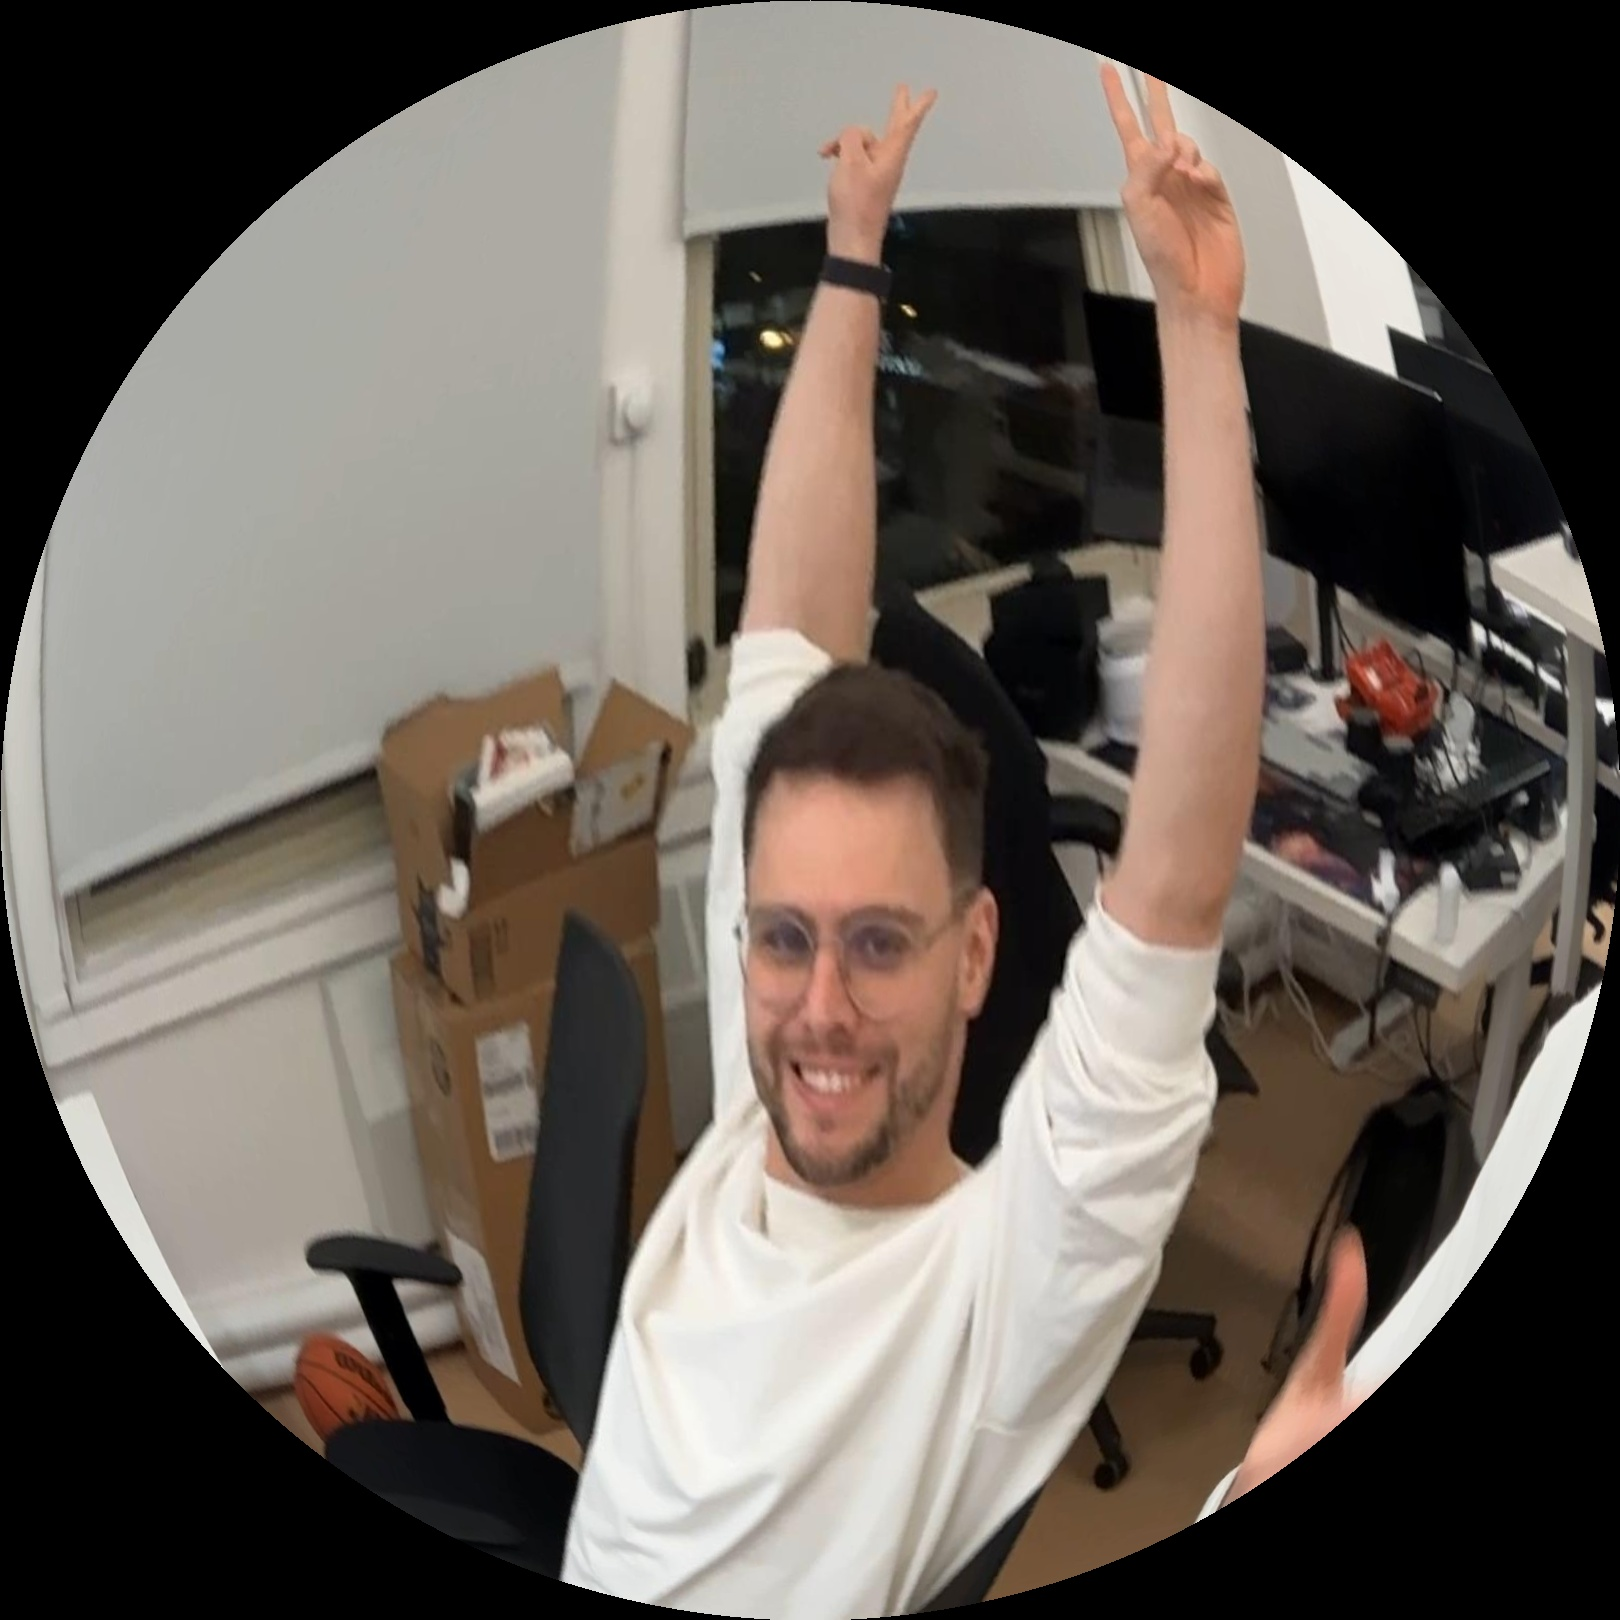face: (723, 739, 988, 1180)
